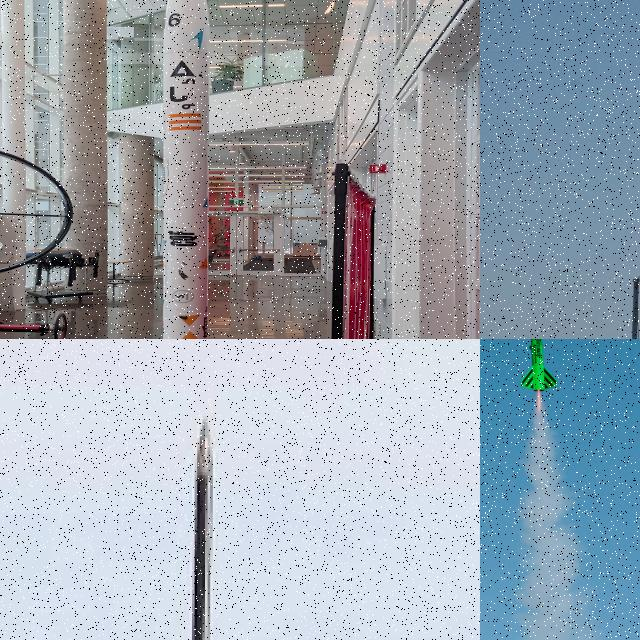Rocket: (163, 0, 210, 339), (178, 410, 226, 640), (518, 339, 559, 394)
